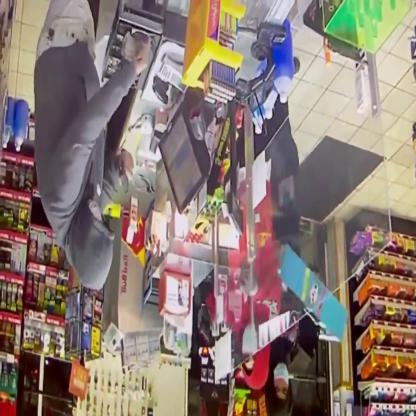Pistol: (114, 151, 136, 200)
